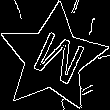M_SW: (21, 26, 84, 91)
